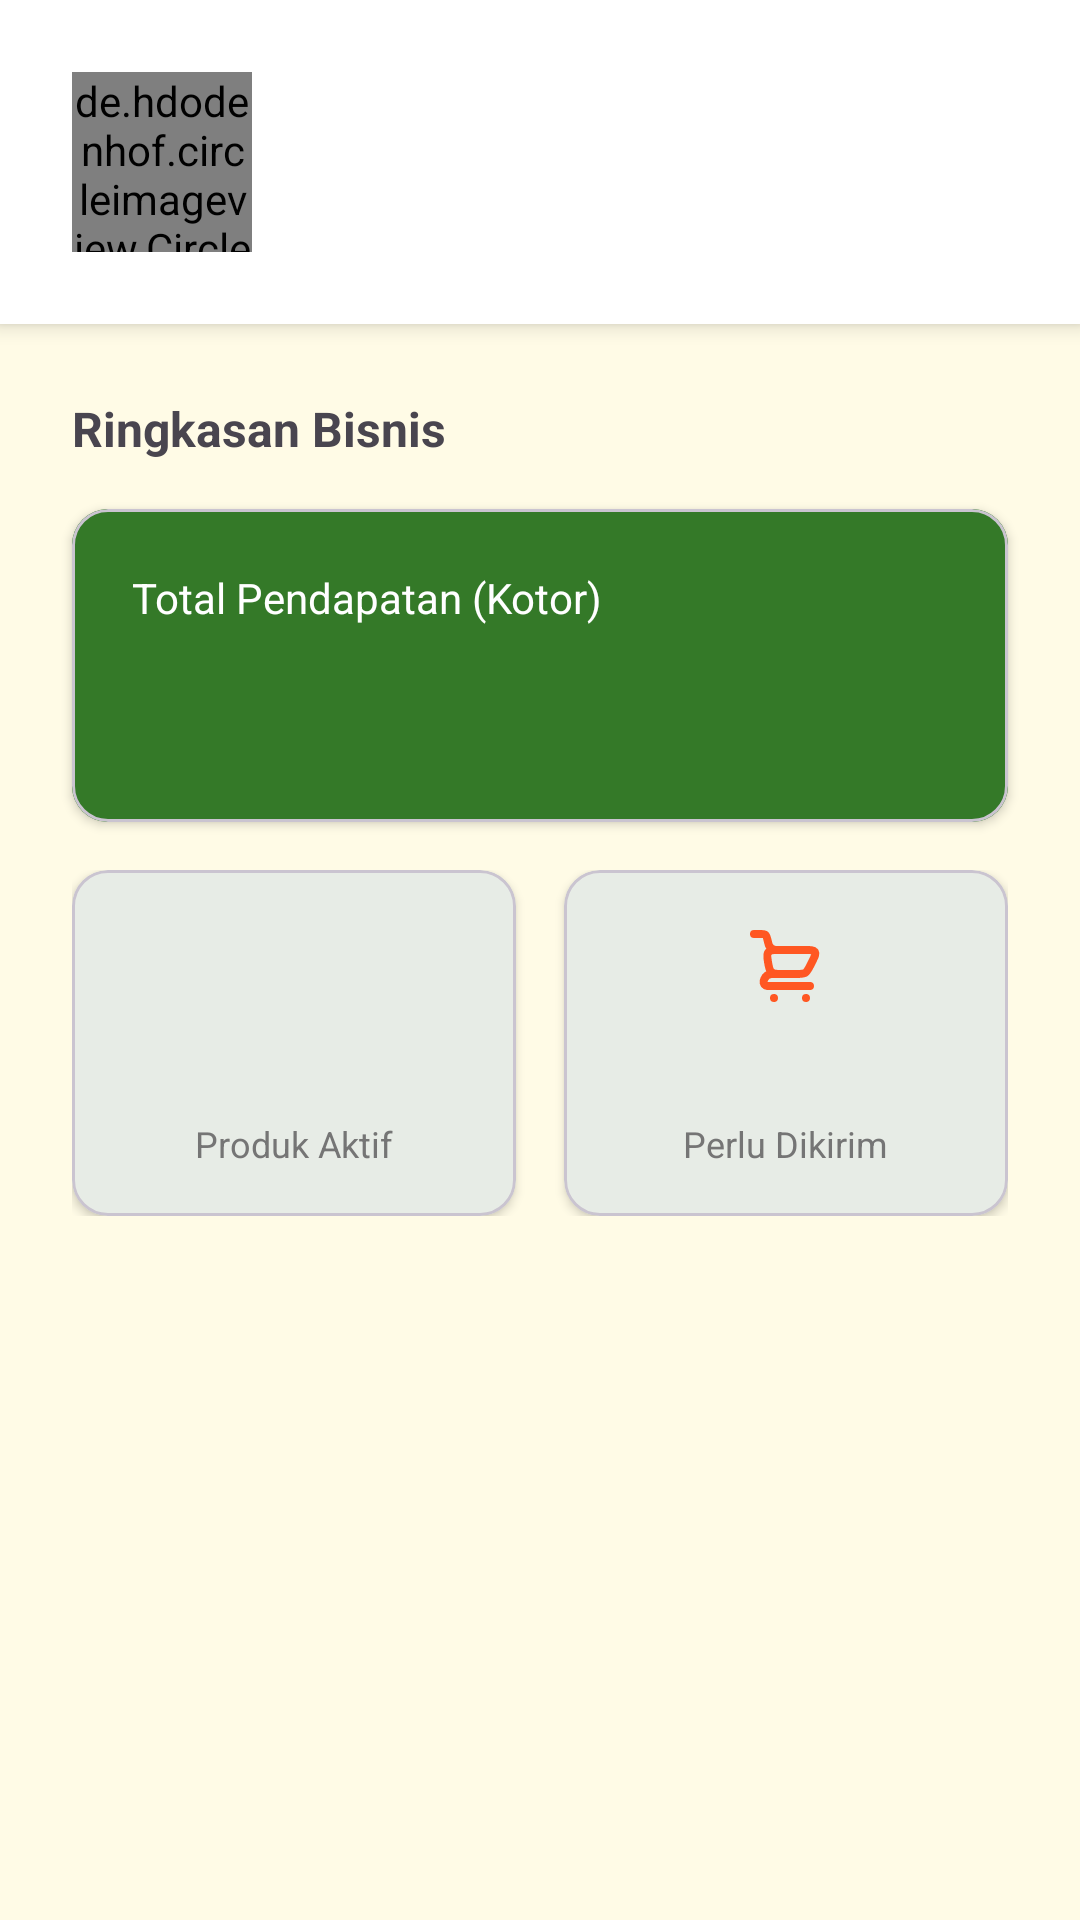

Named icons in this screenshot (1080x1920) and their centers, (x,y):
cart: (785,966)
